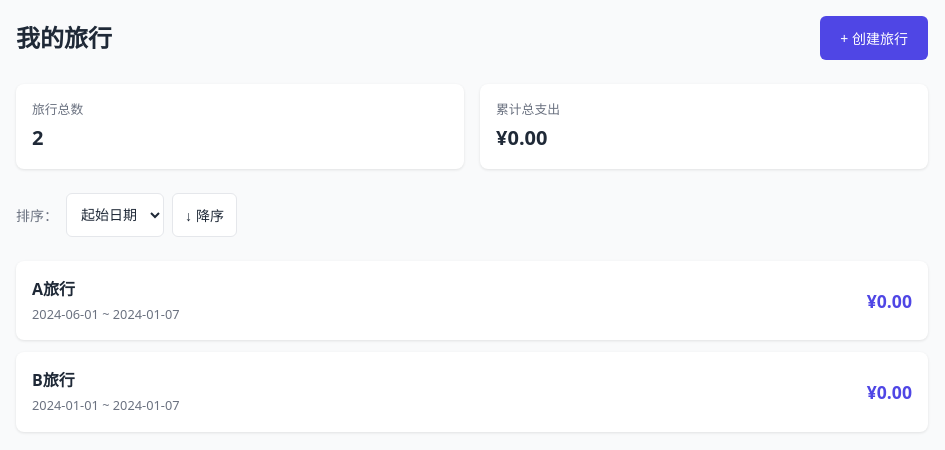
Test: TripListPage › 切换排序字段和方向（需求 2.3）
The width and height of the screenshot is (945, 450).
切换到按名称排序
Select "名称" in the dropdown: (115, 215) [66,193,164,237]
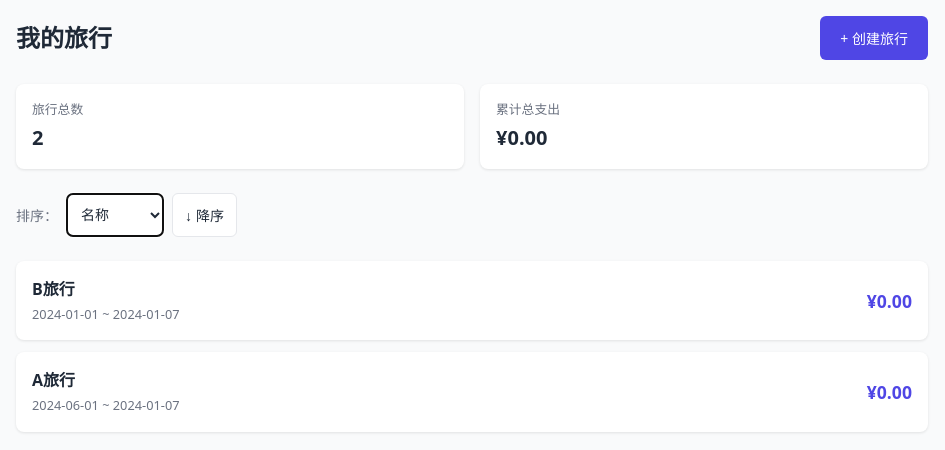
Click the button "↓ 降序": (204, 215) [172,193,237,237]
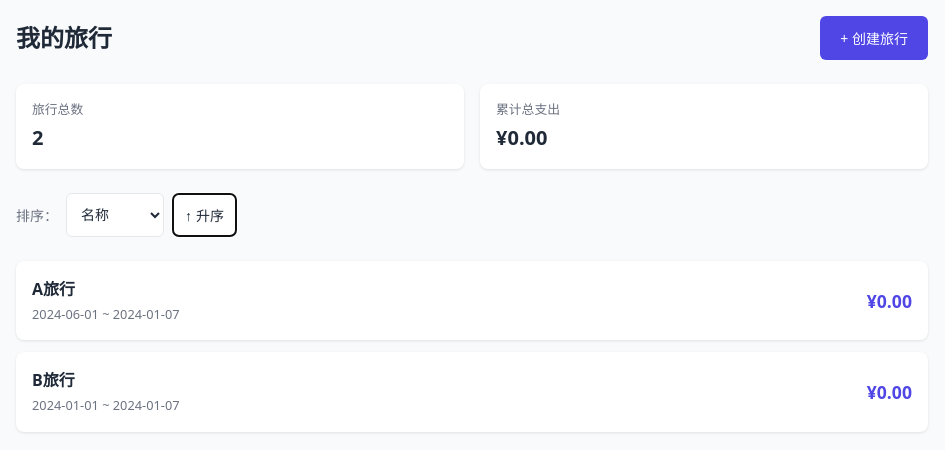
Now the button "↑ 升序" is shown, box [172,193,237,237]
